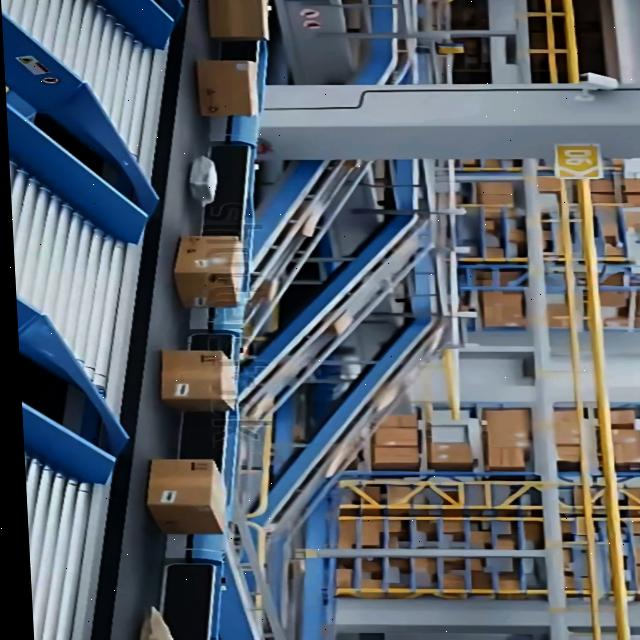product 1: (171, 234, 247, 308), (157, 349, 238, 412), (195, 76, 260, 117), (143, 458, 227, 486)
product 2: (184, 156, 218, 208)
